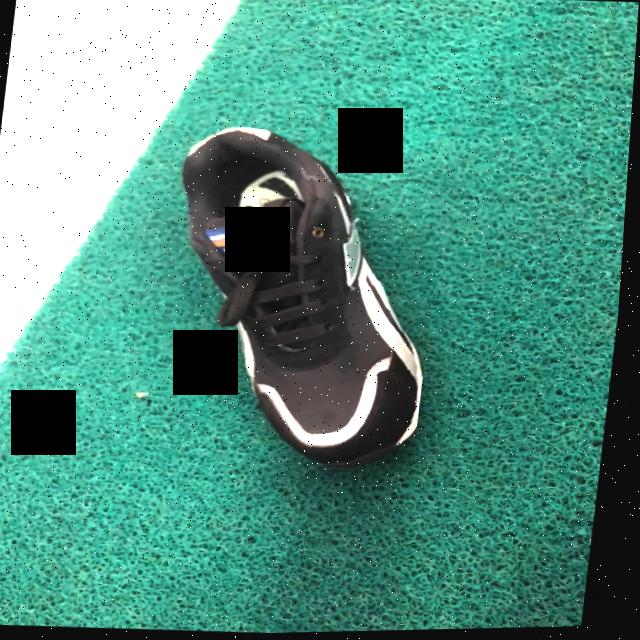shoe: (183, 129, 429, 474)
